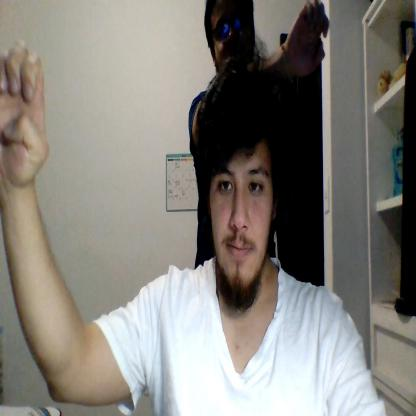E: (0, 38, 49, 184), (288, 0, 330, 74)
